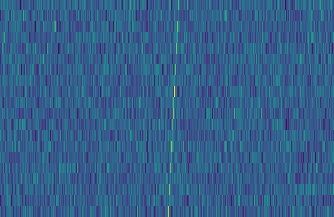signal: (164, 0, 183, 217)
